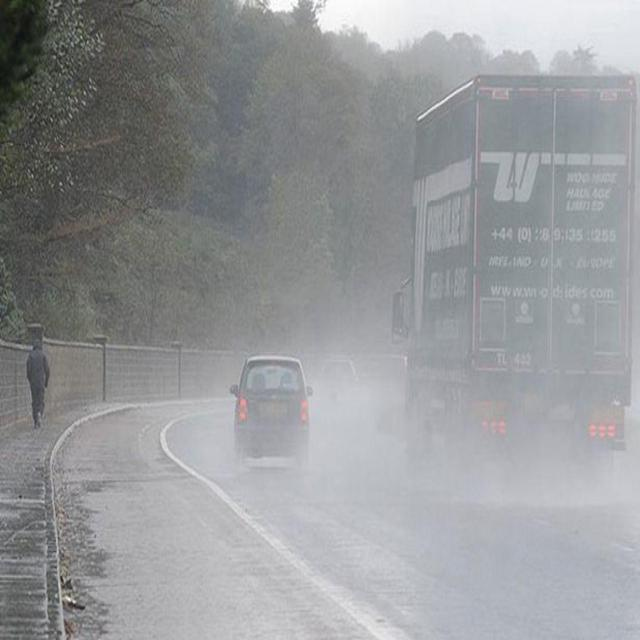Car: (232, 353, 312, 462)
Truck: (401, 72, 638, 510)
